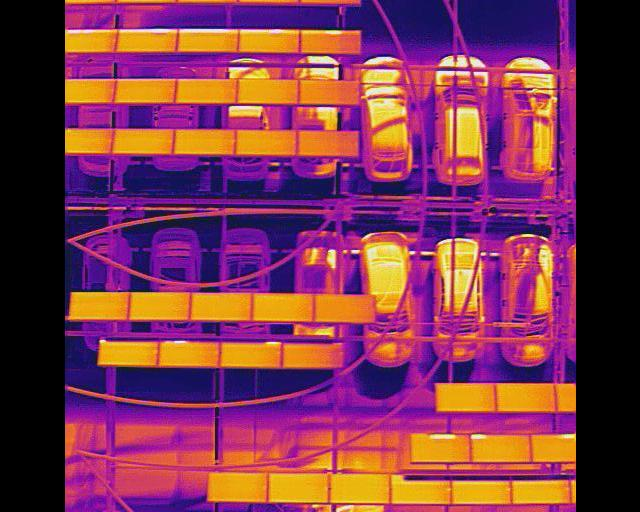No-Anomaly: (432, 382, 496, 413), (250, 293, 316, 322), (327, 475, 390, 505), (312, 294, 376, 323), (266, 475, 329, 504), (494, 384, 557, 413), (187, 292, 251, 320), (206, 473, 265, 502), (126, 293, 189, 320), (174, 78, 237, 105), (170, 130, 235, 156), (235, 80, 300, 106), (297, 80, 358, 107), (67, 293, 128, 320), (295, 132, 358, 158), (235, 130, 295, 157), (282, 343, 345, 368), (112, 80, 175, 105), (449, 481, 510, 505), (98, 341, 156, 366), (508, 481, 571, 504), (112, 129, 172, 153), (390, 480, 449, 504), (64, 80, 114, 103), (64, 131, 112, 154), (237, 0, 298, 5)
Unclassified: (407, 435, 470, 463), (157, 340, 220, 368), (468, 435, 532, 462), (219, 342, 282, 369), (296, 29, 359, 54), (236, 29, 298, 54), (176, 29, 237, 53), (113, 30, 176, 51), (64, 30, 116, 50)
